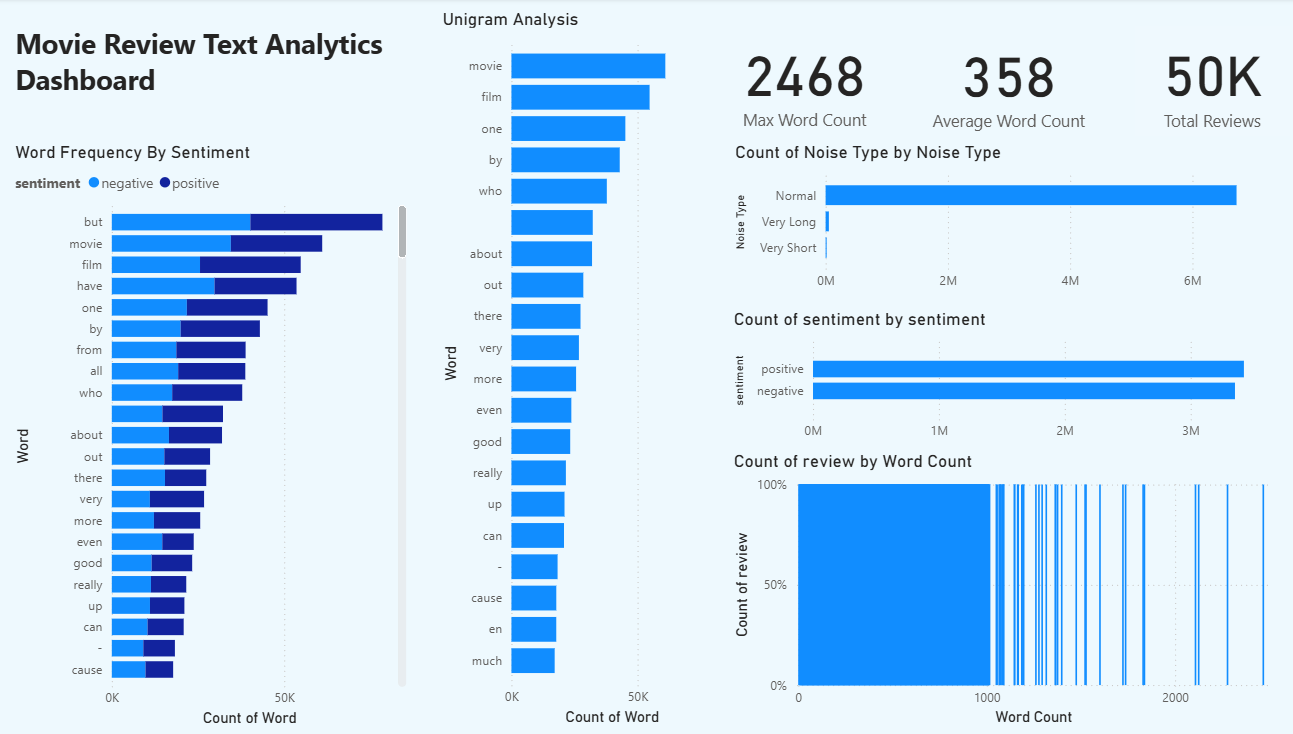

Layout of this report page (visuals, bound fields, positions):
{"tool":"powerbi","page":{"name":"Page 1","canvas":[1280,720],"ordinal":0},"visuals":[{"type":"clusteredBarChart","fields":{"Y":["CountNonNull(Movie Data.sentiment)"],"Category":["Movie Data.sentiment"]},"box":[720,300,522.5,137.5],"z":0},{"type":"hundredPercentStackedColumnChart","fields":{"Category":["Movie Data.Word Count"],"Y":["CountNonNull(Movie Dataset 5.review)"]},"box":[720.2,438.2,543.5,271.2],"z":1000},{"type":"barChart","title":"Unigram Analysis","fields":{"Y":["CountNonNull(Movie Data.Word)"],"Category":["Movie Data.Word"]},"box":[438,9.8,282.2,699.4],"z":2000},{"type":"barChart","title":"Word Frequency By Sentiment","fields":{"Category":["Movie Data.Word"],"Y":["CountNonNull(Movie Data.Word)"],"Series":["Movie Data.sentiment"]},"box":[24.5,138.7,389,570.6],"z":3000},{"type":"card","fields":{"Values":["Movie Data.Max Word Count"]},"box":[721.2,25,145,108.8],"z":4000},{"type":"card","fields":{"Values":["Movie Data.Average Word Count"]},"box":[905,21.2,172.5,117.5],"z":5000},{"type":"card","fields":{"Values":["Movie Data.Total Reviews"]},"box":[1113.8,26.2,150,107.5],"z":6000},{"type":"clusteredBarChart","fields":{"Category":["Movie Data.Noise Type"],"Y":["CountNonNull(Movie Data.Noise Type)"]},"box":[721.2,138.8,521.2,152.5],"z":7000},{"type":"textbox","box":[24.5,20.9,375.5,103.1],"z":8000}]}

Visuals, with their boxes in screenshot pixels (x1, y1, x2, y2), scaled from the page's 1280x720 canvas onto the 1293x734 screenshot:
clusteredBarChart - CountNonNull(Movie Data.sentiment) x Movie Data.sentiment: <region>727, 306, 1255, 446</region>
hundredPercentStackedColumnChart - Movie Data.Word Count x CountNonNull(Movie Dataset 5.review): <region>728, 447, 1277, 723</region>
"Unigram Analysis" barChart: <region>442, 10, 728, 723</region>
"Word Frequency By Sentiment" barChart: <region>25, 141, 418, 723</region>
card - Movie Data.Max Word Count: <region>729, 25, 875, 136</region>
card - Movie Data.Average Word Count: <region>914, 22, 1088, 141</region>
card - Movie Data.Total Reviews: <region>1125, 27, 1277, 136</region>
clusteredBarChart - Movie Data.Noise Type x CountNonNull(Movie Data.Noise Type): <region>729, 141, 1255, 297</region>
textbox: <region>25, 21, 404, 126</region>
